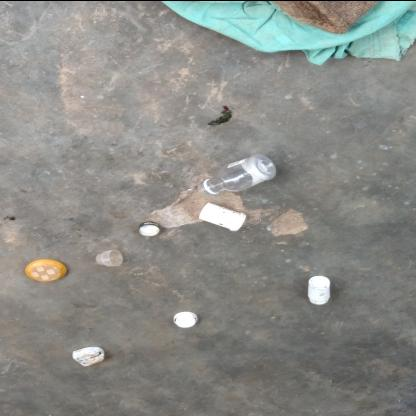bottle: (66, 208, 123, 272)
